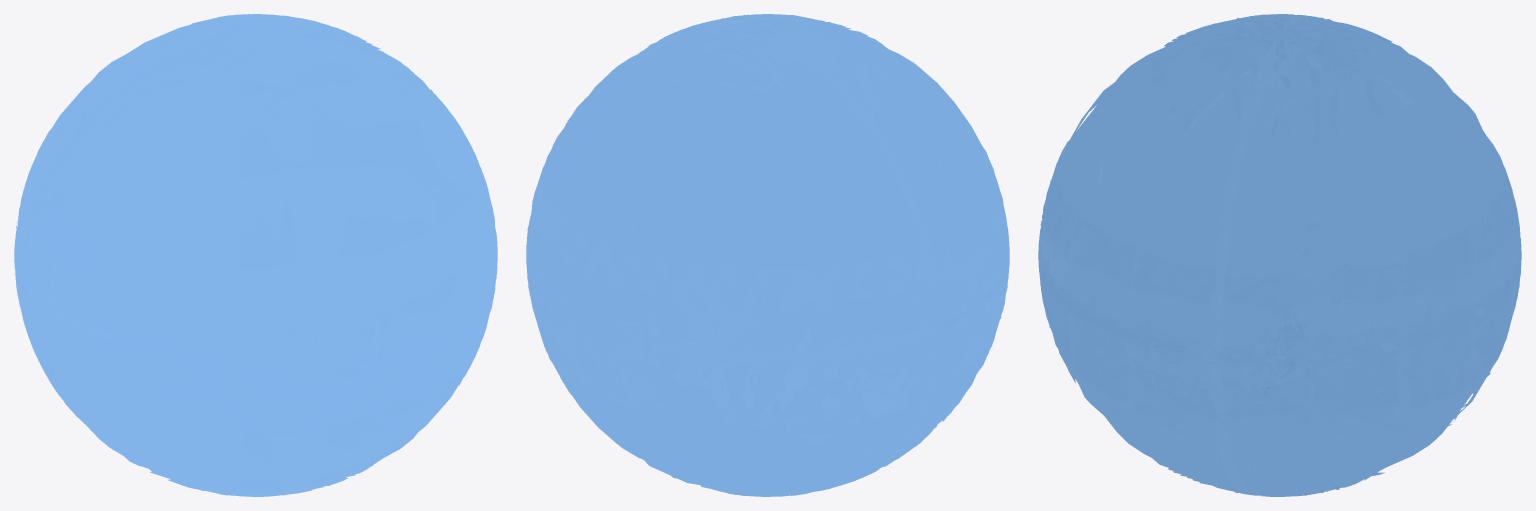
File: tank-A2.glb
3 renders of one model, left to right at view 1: azimuth 30°, elevation 25°; view 2: azimuth 150°, elevation 25°; view 3: azimuth 270°, elevation 25°, orthographic.
Visible parts, largest first — view 1: buoyancy_tanks; view 2: buoyancy_tanks; view 3: buoyancy_tanks.
Boxes of the visible parts, box(x1,y1,x2,y2) form: buoyancy_tanks: box(14, 14, 497, 496); buoyancy_tanks: box(526, 14, 1009, 496); buoyancy_tanks: box(1038, 14, 1521, 496).
Bounding box in the file's own units: 2 × 2 × 2.
